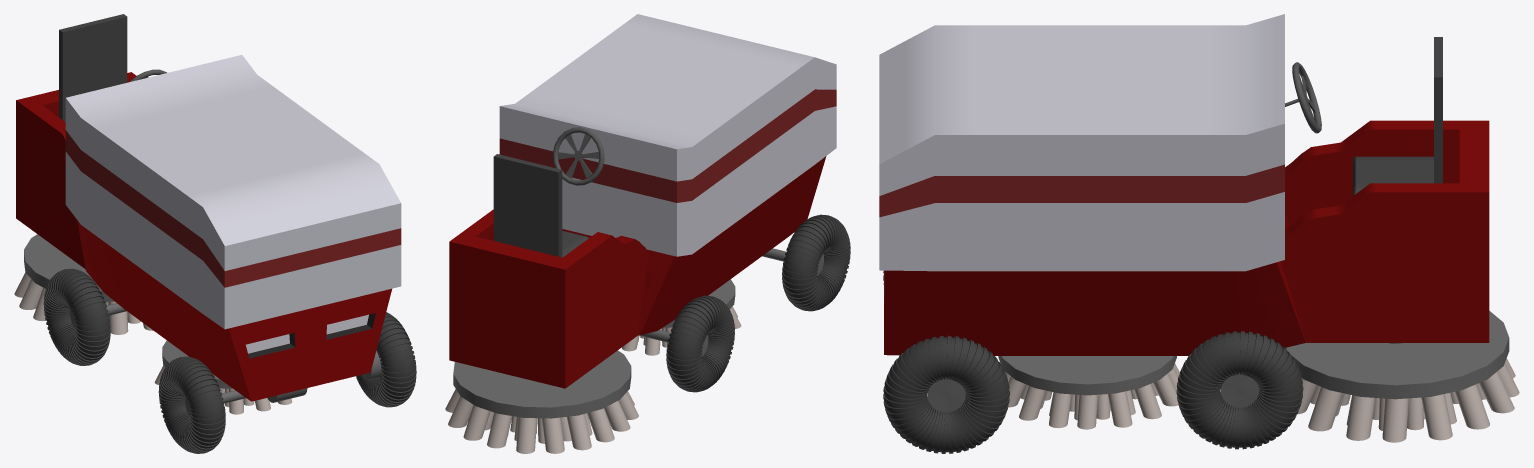
File: Zamboni.fbx
3 views of the same model, side by side, from view 1: azimuth 30°, elevation 25°; view 2: azimuth 150°, elevation 25°; view 3: azimuth 270°, elevation 25° (orthographic). The views are drawn at different scales.
Visible parts, largest first — view 1: ZAMBONI, Roue_02 (×2), Roue_01, Balais_Arriere02, Roue_Avant, Balais_Avant_02, Brosse_13, Brosse_17; view 2: ZAMBONI, Roue_02 (×2), Balais_Arriere02, Volant01, Brosse_11, Brosse_10, Volant, Brosse_12, Brosse_09, Brosse_08, Brosse_13, Brosse_14 (+2 smaller); view 3: ZAMBONI, Roue_01 (×2), Balais_Arriere02, Balais_Avant_02, Brosse_06 (×2), Brosse_04 (×2), Brosse_05 (×2), Brosse_03 (×2), Brosse_07 (×2), Roue_Avant, Roue_Arriere, Volant01 (+1 smaller).
Part boxes in pixels (left/top/right/bottom): ZAMBONI: left=16, top=14, right=401, bottom=401; Roue_02 (×2): left=43, top=268, right=225, bottom=453; Roue_01: left=356, top=312, right=416, bottom=407; Balais_Arriere02: left=24, top=234, right=114, bottom=301; Roue_Avant: left=185, top=351, right=381, bottom=416; Balais_Avant_02: left=162, top=340, right=232, bottom=388; Brosse_13: left=19, top=279, right=43, bottom=309; Brosse_17: left=108, top=301, right=128, bottom=334; ZAMBONI: left=449, top=14, right=836, bottom=388; Roue_02 (×2): left=666, top=214, right=850, bottom=392; Balais_Arriere02: left=453, top=350, right=631, bottom=418; Volant01: left=552, top=127, right=604, bottom=185; Brosse_11: left=542, top=417, right=564, bottom=453; Brosse_10: left=516, top=417, right=537, bottom=453; Volant: left=557, top=134, right=599, bottom=178; Brosse_12: left=566, top=414, right=591, bottom=450; Brosse_09: left=487, top=412, right=512, bottom=448; Brosse_08: left=463, top=405, right=490, bottom=440; Brosse_13: left=587, top=408, right=614, bottom=442; Brosse_14: left=604, top=400, right=630, bottom=431; ZAMBONI: left=879, top=14, right=1489, bottom=355; Roue_01 (×2): left=883, top=331, right=1303, bottom=453; Balais_Arriere02: left=1285, top=311, right=1509, bottom=399; Balais_Avant_02: left=998, top=356, right=1176, bottom=395; Brosse_06 (×2): left=1108, top=391, right=1452, bottom=440; Brosse_04 (×2): left=1049, top=392, right=1375, bottom=440; Brosse_05 (×2): left=1077, top=394, right=1408, bottom=442; Brosse_03 (×2): left=1019, top=385, right=1343, bottom=431; Brosse_07 (×2): left=1134, top=384, right=1489, bottom=429; Roue_Avant: left=927, top=378, right=965, bottom=413; Roue_Arriere: left=1221, top=373, right=1259, bottom=408; Volant01: left=1292, top=62, right=1321, bottom=133.
Bounding box in the file's own units: 155 × 175 × 304.
